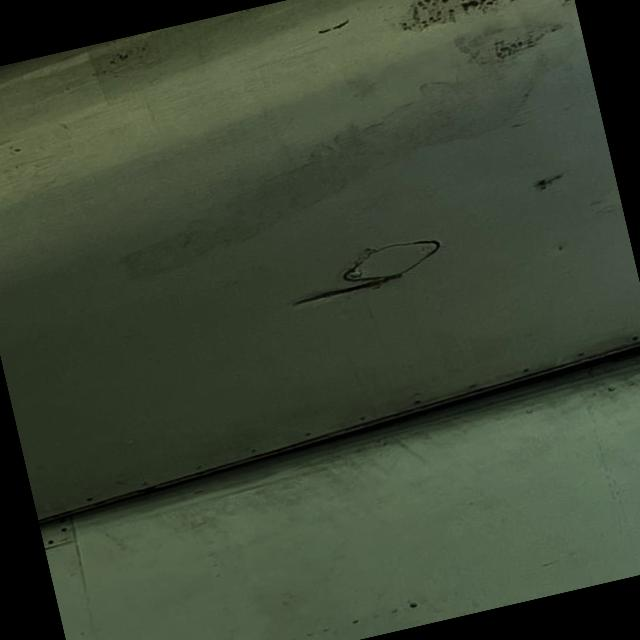crack: (270, 262, 414, 318)
